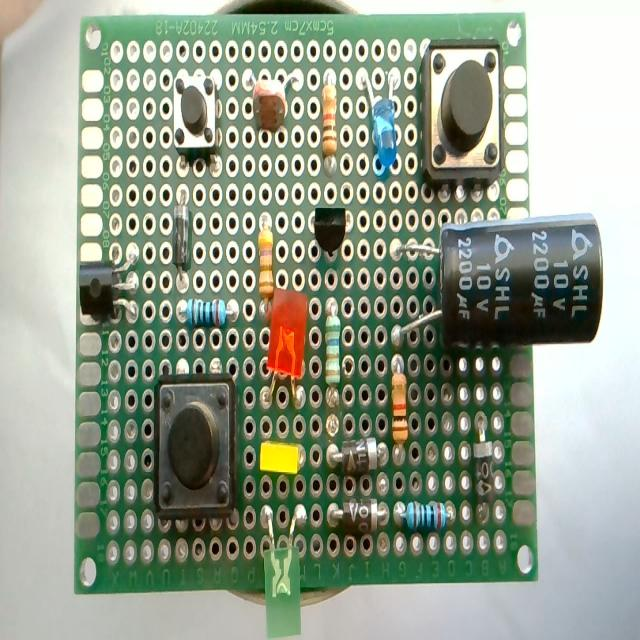Electrolytic capacitor: (389, 210, 602, 352)
cds: (241, 66, 302, 142)
diode: (460, 398, 500, 518), (328, 499, 388, 534), (173, 185, 190, 285), (335, 437, 379, 475)
led: (352, 58, 404, 178), (262, 504, 307, 635), (263, 287, 309, 406), (258, 440, 302, 476)
resistor: (325, 299, 342, 425), (398, 500, 454, 534), (177, 296, 239, 326), (257, 221, 275, 319), (321, 67, 338, 166), (391, 364, 408, 442)
switch: (419, 38, 503, 186), (154, 375, 237, 519), (173, 73, 217, 153)
transistor: (78, 251, 140, 320), (314, 207, 347, 260)
